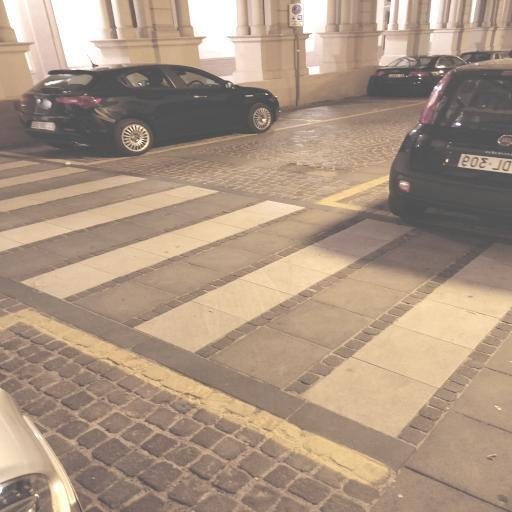crosswalk: (5, 194, 420, 361)
